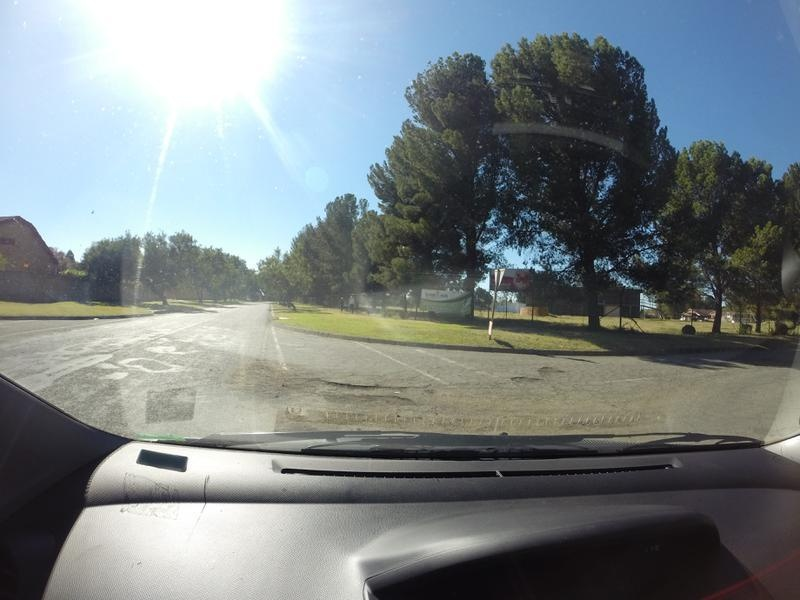pothole: (317, 375, 405, 395), (331, 396, 416, 410), (532, 363, 567, 383), (507, 369, 530, 389), (566, 354, 595, 367)
